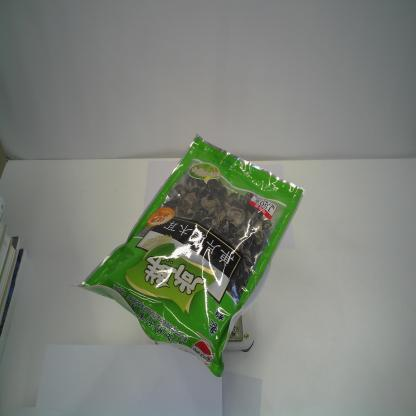Dried Food: (68, 131, 306, 379)
